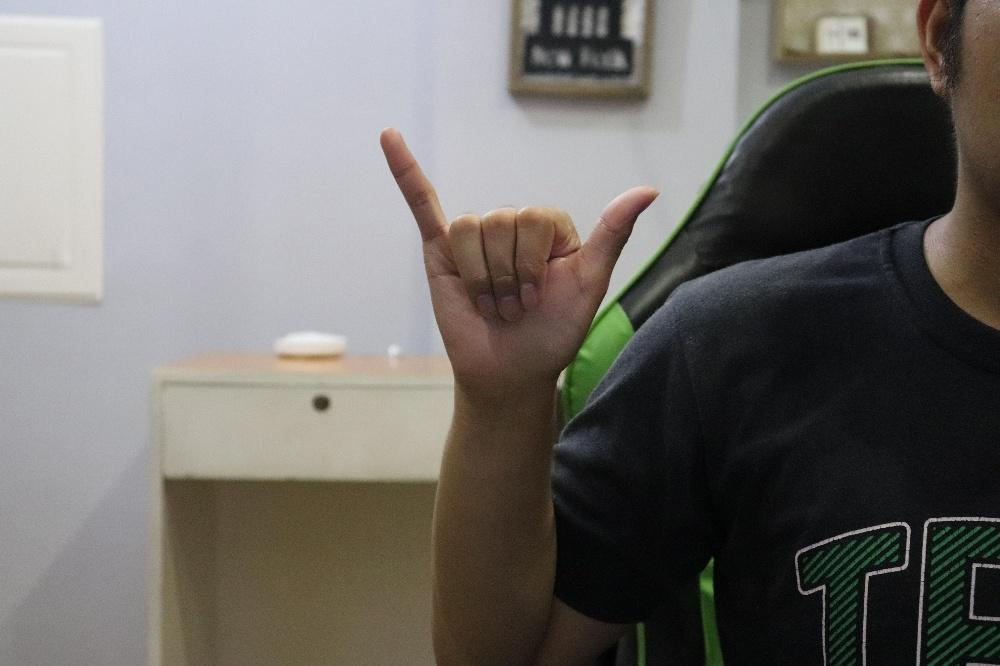y: (378, 124, 659, 396)
